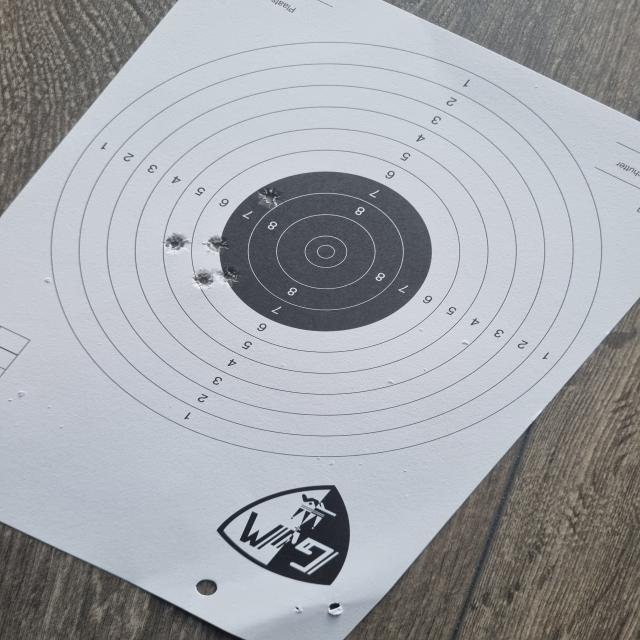6: (162, 234, 192, 250)
7: (192, 271, 214, 288)
8: (257, 188, 284, 208), (218, 266, 241, 287), (204, 236, 230, 252)
Black Contour: (221, 170, 432, 333)
Target: (46, 38, 604, 459)
